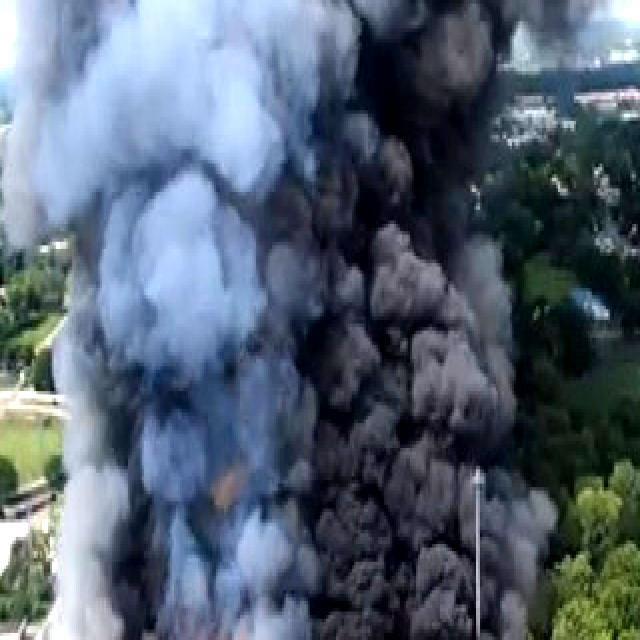smoke: (2, 0, 452, 238), (122, 0, 224, 633), (0, 0, 296, 153), (220, 238, 332, 640), (370, 249, 452, 640), (48, 355, 118, 640), (314, 384, 372, 640)
